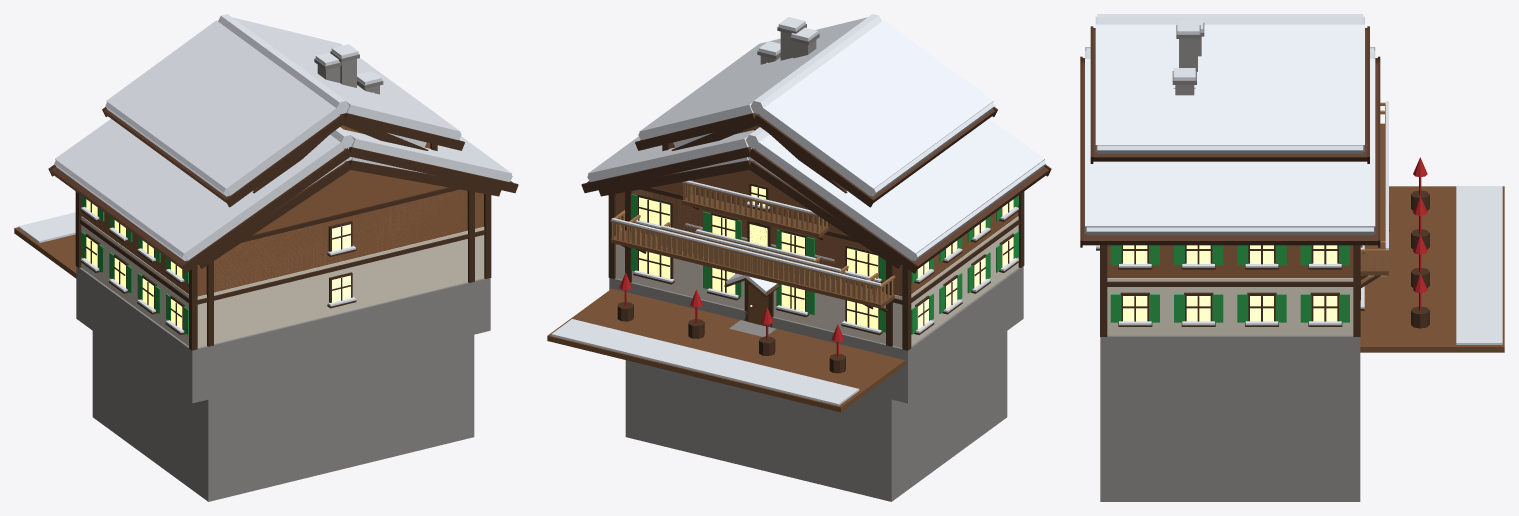
Rendered from SV_Buildings.fbx.
3 views of the same model, side by side, from view 1: azimuth 30°, elevation 25°; view 2: azimuth 150°, elevation 25°; view 3: azimuth 270°, elevation 25° (orthographic). The views are drawn at different scales.
Visible parts, largest first — view 1: SVA_Restaurant_Stone, SVA_ChaletB_Snow, SVA_Lodge_Stone, SVA_Lodge_Snow, SVA_Lodge_Planks, SVA_Lodge_Plaster, SVA_Lodge_WoodDark, SVA_Restaurant_WoodDark, SVA_ChaletB_WoodDark, SVA_Lodge_WindowWarm, SVA_Lodge_PaintGreen, SVA_Lodge_Shingle (+6 smaller); view 2: SVA_Restaurant_Stone, SVA_ChaletB_Snow, SVA_Lodge_Snow, SVA_Restaurant_Wood, SVA_Lodge_WoodDark, SVA_Lodge_Stone, SVA_Restaurant_Snow, SVA_Lodge_Plaster, SVA_Restaurant_WoodDark, SVA_Lodge_Planks, SVA_Lodge_WindowWarm, SVA_Lodge_PaintGreen (+13 smaller); view 3: SVA_ChaletB_Snow, SVA_Restaurant_Stone, SVA_Lodge_Snow, SVA_Lodge_Stone, SVA_Restaurant_Wood, SVA_Restaurant_Snow, SVA_Lodge_WoodDark, SVA_Lodge_Plaster, SVA_Lodge_PaintGreen, SVA_Lodge_Shingle, SVA_Lodge_WindowWarm, SVA_Lodge_Planks (+5 smaller).
Part boxes in pixels (x1,y1,x2,y2): SVA_Restaurant_Stone: (92,282,474,501); SVA_ChaletB_Snow: (105,14,461,196); SVA_Lodge_Stone: (76,84,490,403); SVA_Lodge_Snow: (54,71,512,333); SVA_Lodge_Planks: (81,170,483,296); SVA_Lodge_Plaster: (81,216,484,347); SVA_Lodge_WoodDark: (48,147,518,350); SVA_Restaurant_WoodDark: (199,160,501,346); SVA_ChaletB_WoodDark: (102,107,464,207); SVA_Lodge_WindowWarm: (86,199,350,329); SVA_Lodge_PaintGreen: (81,195,188,334); SVA_Lodge_Shingle: (51,147,513,269); SVA_Restaurant_Stone: (625,283,1007,501); SVA_ChaletB_Snow: (638,14,994,289); SVA_Lodge_Snow: (587,41,1045,333); SVA_Restaurant_Wood: (547,243,905,412); SVA_Lodge_WoodDark: (581,147,1051,350); SVA_Lodge_Stone: (609,56,1023,403); SVA_Restaurant_Snow: (551,62,896,405); SVA_Lodge_Plaster: (615,216,1018,347); SVA_Restaurant_WoodDark: (598,160,900,373); SVA_Lodge_Planks: (616,170,1018,296); SVA_Lodge_WindowWarm: (639,186,1013,329); SVA_Lodge_PaintGreen: (631,194,1018,334); SVA_ChaletB_Snow: (1095,14,1364,153); SVA_Restaurant_Stone: (1100,396,1360,501); SVA_Lodge_Snow: (1085,47,1388,325); SVA_Lodge_Stone: (1100,85,1386,395); SVA_Restaurant_Wood: (1360,132,1504,352); SVA_Restaurant_Snow: (1173,87,1502,344); SVA_Lodge_WoodDark: (1080,56,1380,336); SVA_Lodge_Plaster: (1107,278,1353,335); SVA_Lodge_PaintGreen: (1110,245,1349,322); SVA_Lodge_Shingle: (1082,58,1389,245); SVA_Lodge_WindowWarm: (1123,245,1337,321); SVA_Lodge_Planks: (1107,245,1353,277).
Bounding box in the file's own units: 73.66 × 79.56 × 71.82.
